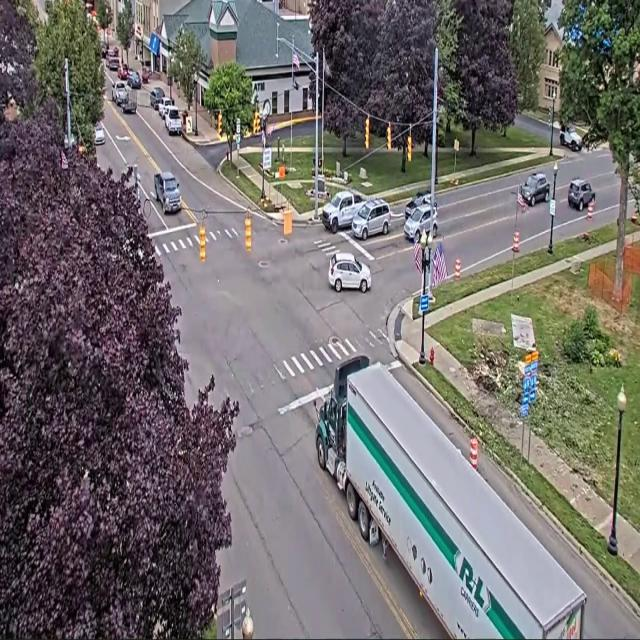car: (329, 253, 371, 293), (352, 199, 390, 240), (404, 200, 437, 241), (520, 173, 550, 207), (568, 179, 595, 211), (405, 191, 430, 219), (560, 125, 582, 151), (149, 87, 165, 110), (112, 80, 126, 105), (158, 96, 173, 119), (127, 71, 141, 88), (95, 122, 105, 145), (107, 55, 119, 71), (117, 64, 128, 79), (141, 67, 150, 83), (100, 42, 108, 58), (108, 47, 119, 56)
traffic signal: (245, 213, 251, 252), (199, 225, 205, 262), (253, 112, 260, 135), (365, 117, 369, 149), (407, 136, 412, 161), (217, 112, 222, 135), (387, 123, 391, 150), (78, 144, 85, 154)
truck: (314, 357, 586, 639), (321, 191, 364, 233), (154, 172, 181, 213), (165, 107, 181, 135), (120, 88, 136, 113), (112, 80, 126, 105)
